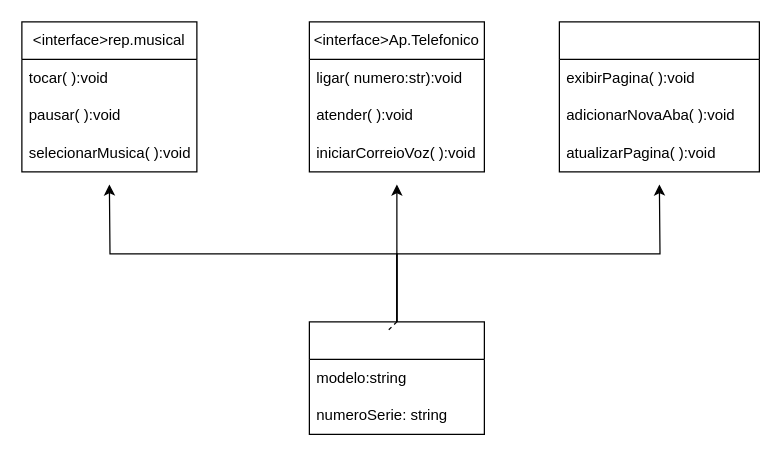
Image size: 781x456. Some labels were removed from this diagram. Each missing label, with the box of its shape:
<<interface>>Nav.Internet: (558, 21, 759, 172)
Iphone: (308, 321, 484, 434)
